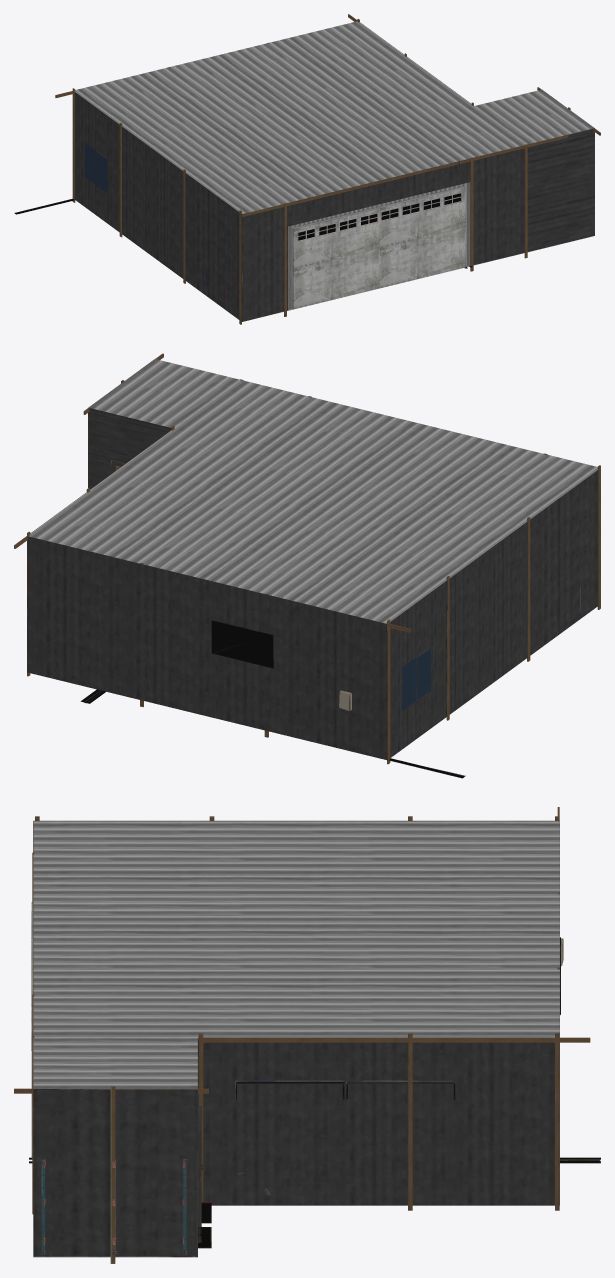
File: config-garage.glb
The picture shows the model from 3 angles, top to bottom: view 1: azimuth 30°, elevation 25°; view 2: azimuth 150°, elevation 25°; view 3: azimuth 270°, elevation 25°; orthographic projection. The views are drawn at different scales.
Visible parts, largest first — view 1: garage; view 2: garage; view 3: garage.
Boxes of the visible parts, bbox=[...] form: garage: bbox=[14, 14, 600, 324]; garage: bbox=[14, 353, 600, 778]; garage: bbox=[14, 807, 600, 1263].
Bounding box in the file's own units: 12.65 × 3.38 × 9.99.
Materials: 1 (1 with a texture image).
